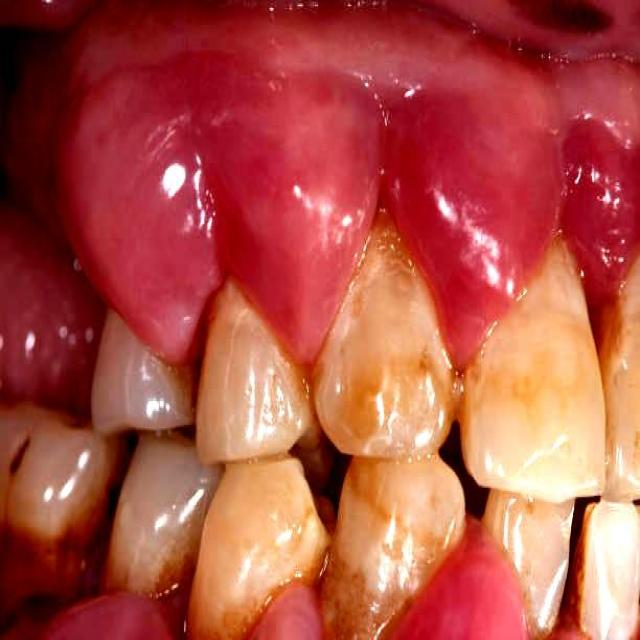caries: (5, 424, 39, 490)
